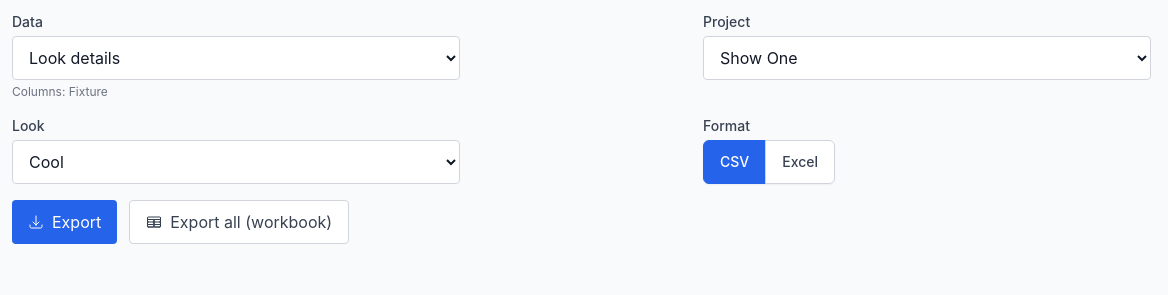
Scenario: DataExportPanel › honours the table and scope defaults and exports look details
This screenshot has width=1168, height=295.
Expected: the dropdown labelled "Data" shows "Look details", [12,36,460,80]
Expected: the dropdown labelled "Look" shows "Cool", [12,140,460,184]
Click the button "Export" at (65, 222), box [12,200,117,244]
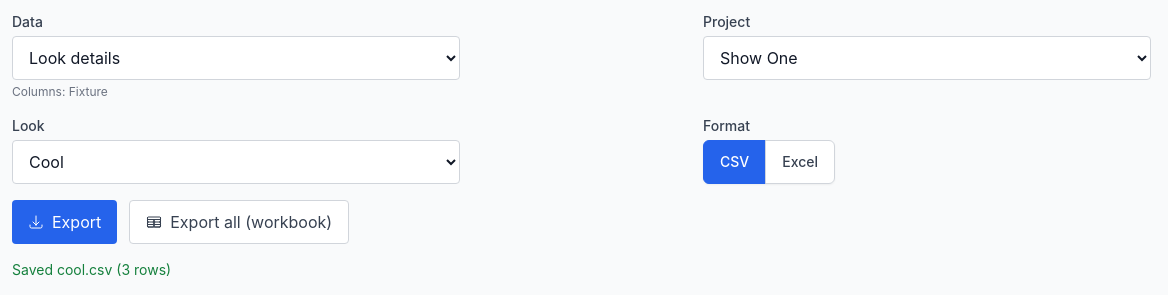
Now the text with test id "data-export-result" shows "Saved cool.csv", box [12,261,171,278]
